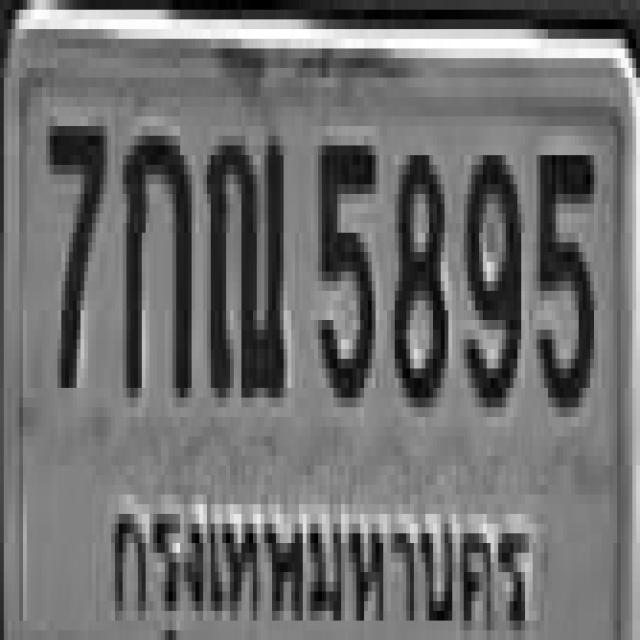10GorGai: (119, 126, 188, 388)
28NorNen: (203, 121, 284, 393)
5: (314, 136, 372, 398), (533, 146, 590, 398)
7: (46, 116, 103, 378)
8: (391, 146, 441, 398)
9: (460, 146, 517, 398)
Bangkok: (91, 474, 539, 640)
